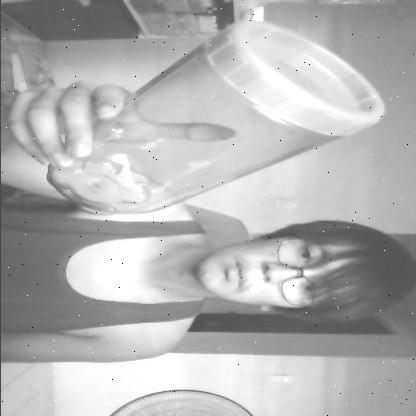Plastic Bottle: (41, 19, 397, 217)
